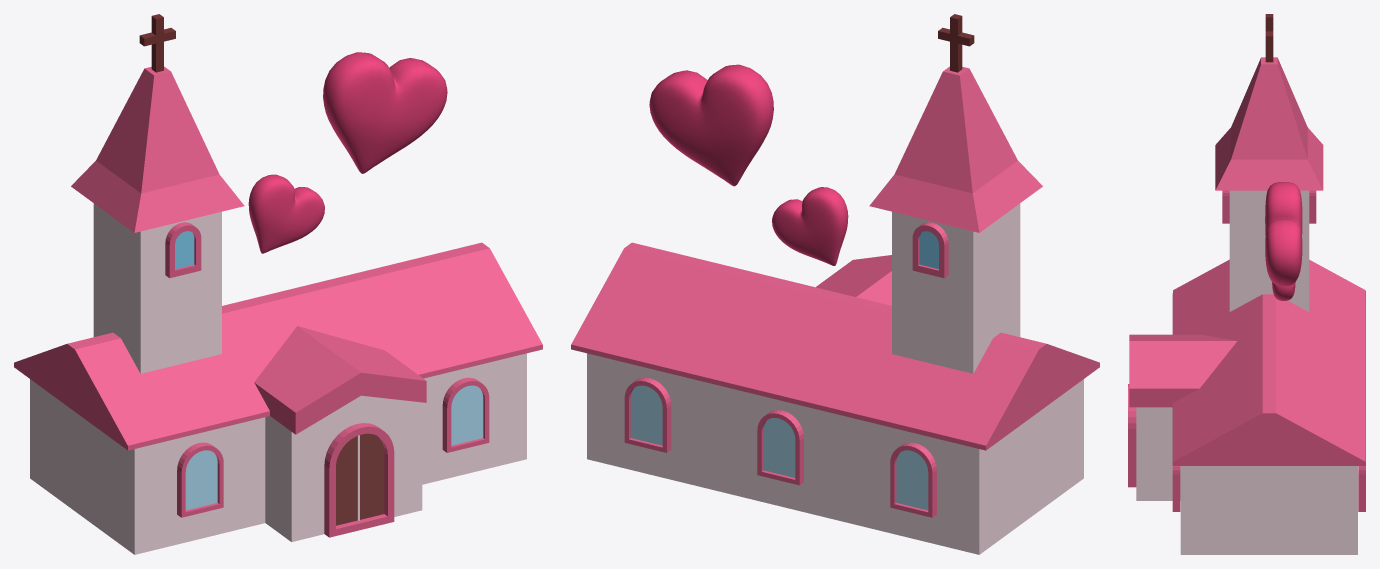
The model's file is wedding.glb.
The picture shows the model from 3 angles, left to right: view 1: azimuth 30°, elevation 25°; view 2: azimuth 150°, elevation 25°; view 3: azimuth 270°, elevation 25°; orthographic projection. The views are drawn at different scales.
Parts seen in each view (by area): view 1: Cube.478; view 2: Cube.478; view 3: Cube.478.
Part boxes in pixels (x1,y1,x2,y2): Cube.478: (14, 14, 542, 554); Cube.478: (571, 14, 1099, 554); Cube.478: (1128, 14, 1365, 554).
Bounding box in the file's own units: 2 × 2.22 × 1.17.
Materials: 1 (1 with a texture image).
